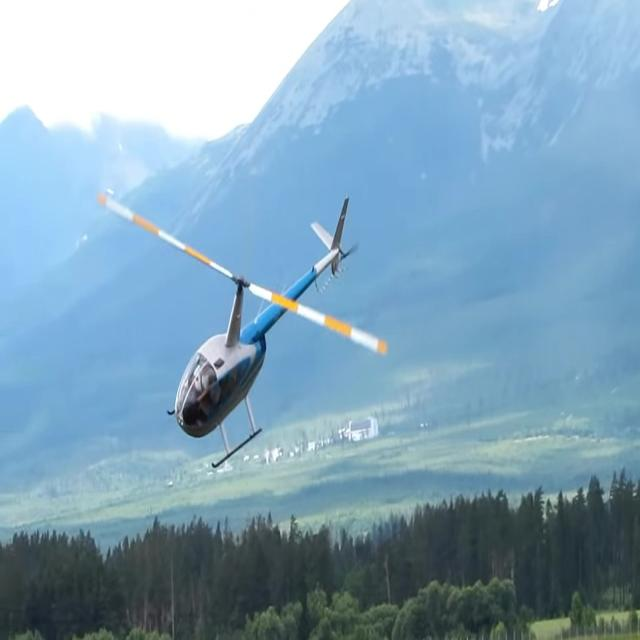CIV_HELO: (165, 194, 355, 471)
